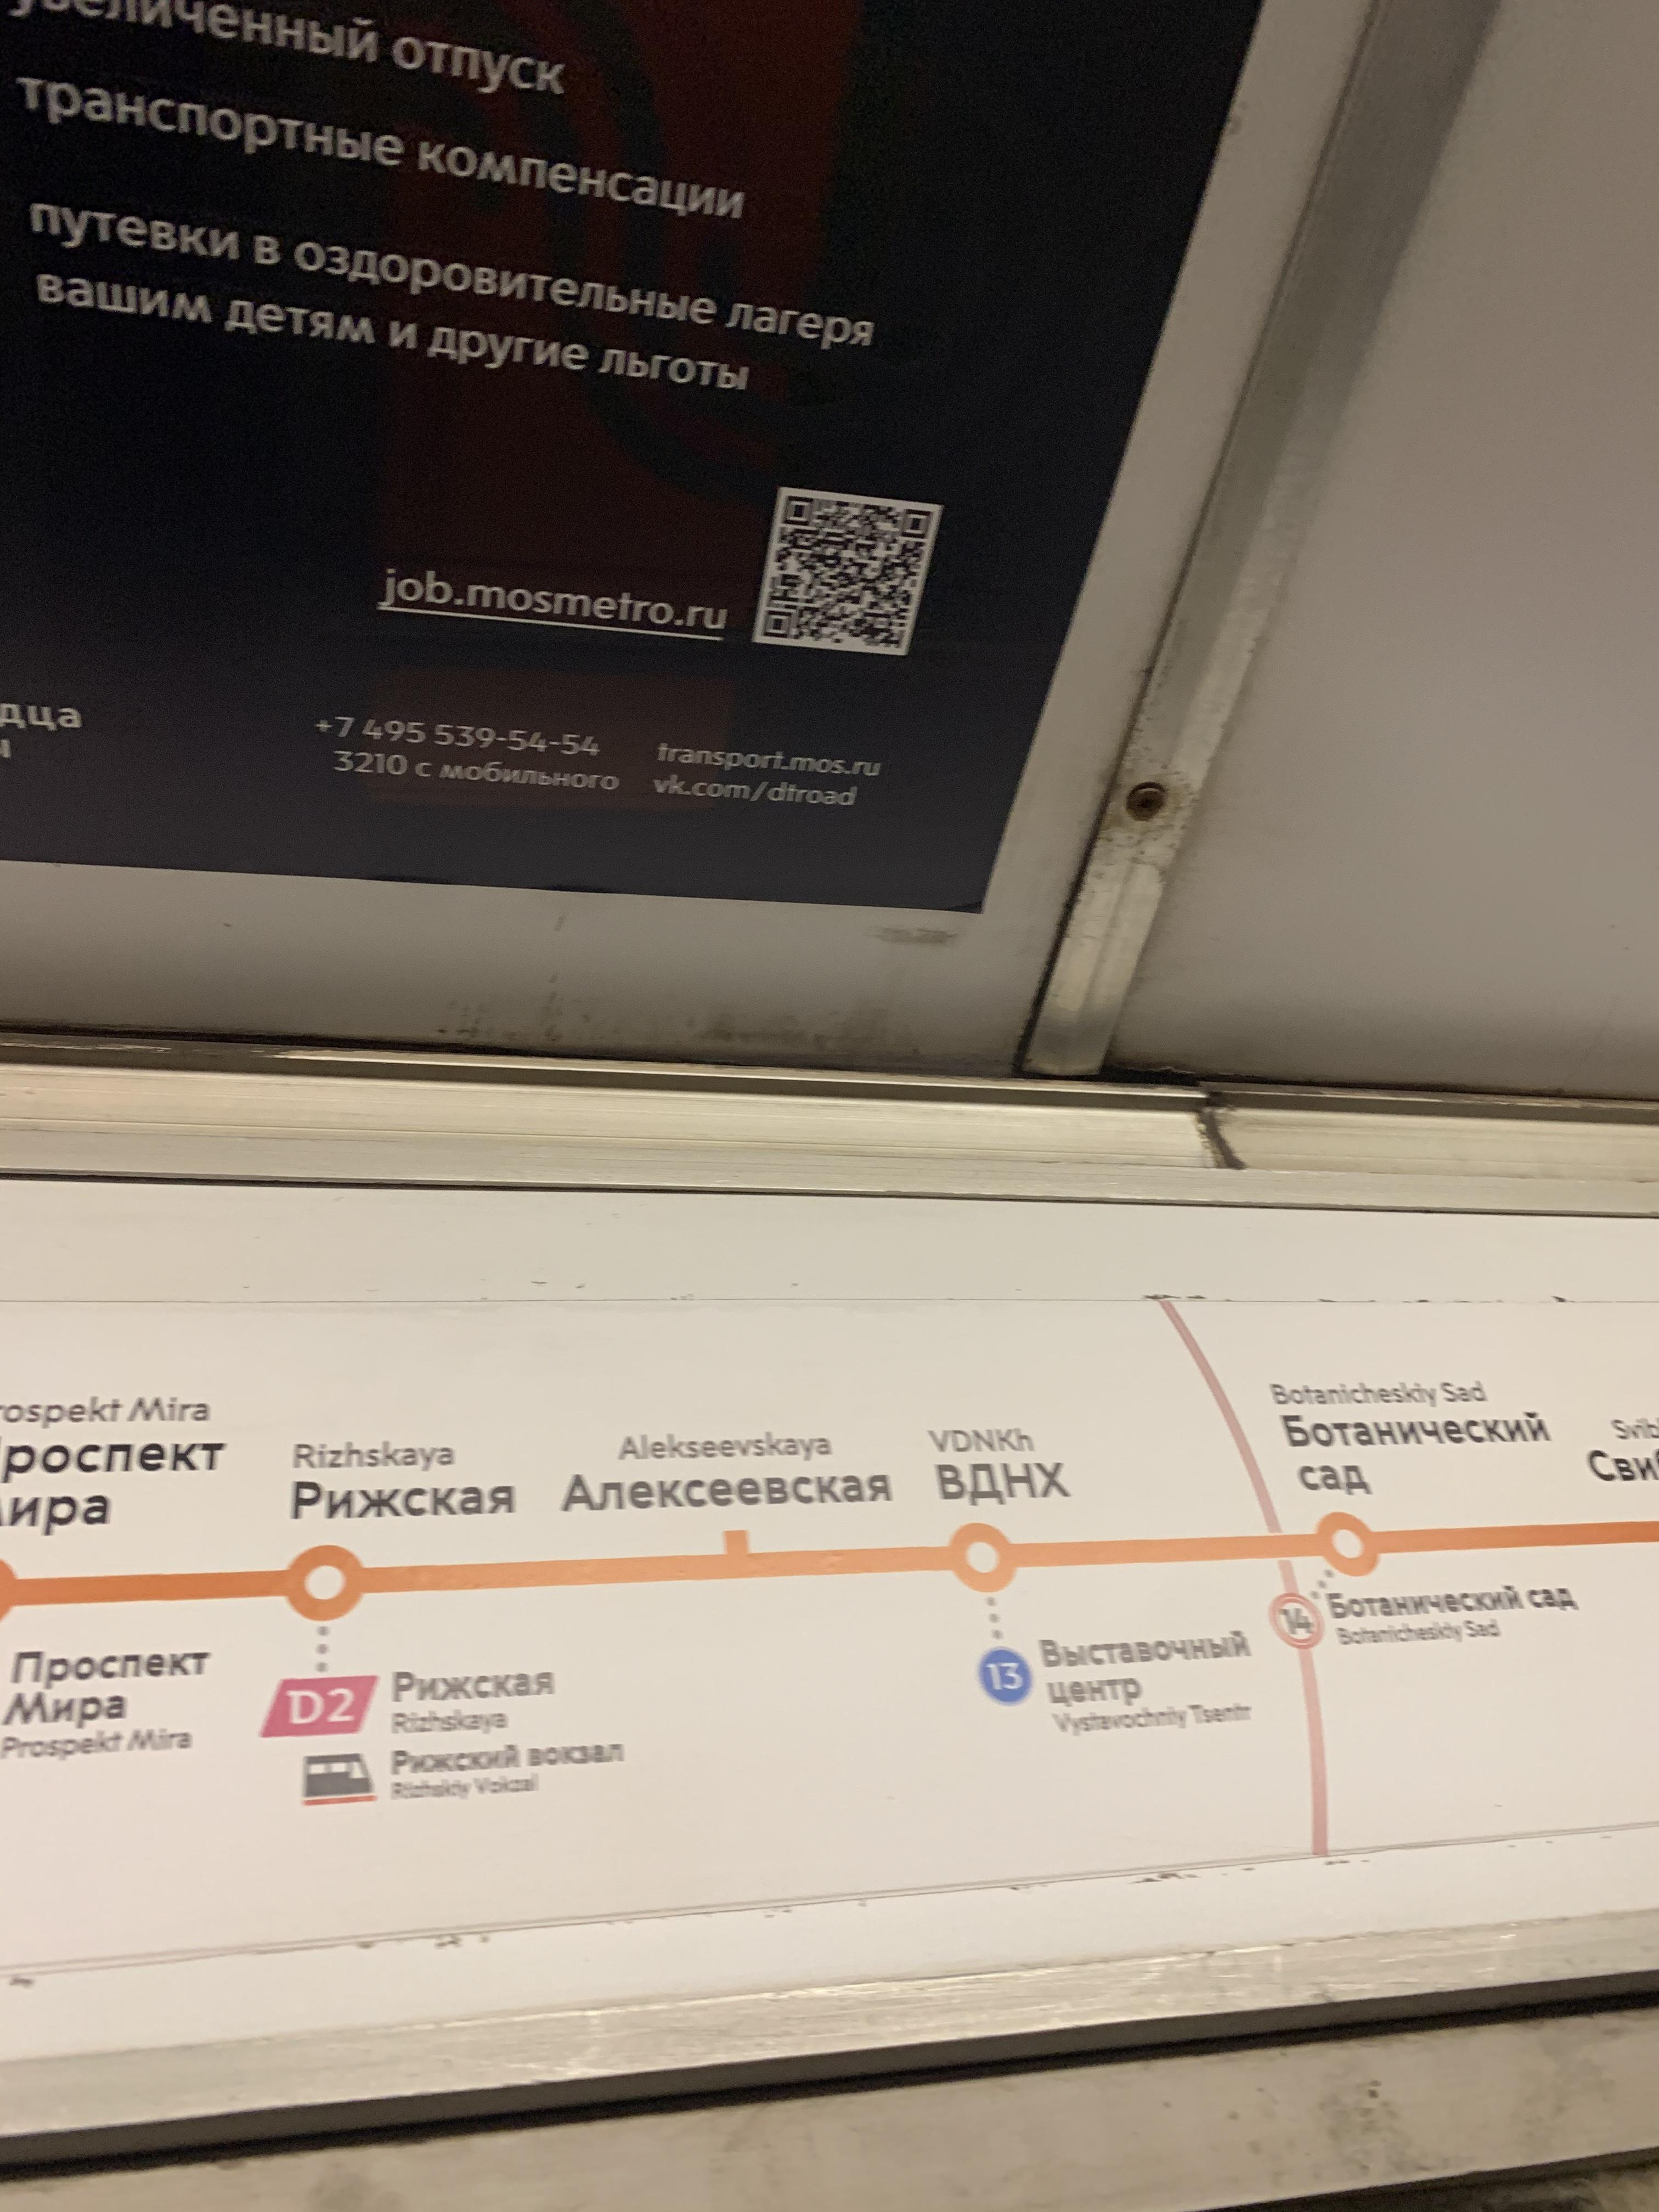qrcode: (762, 495, 936, 651)
